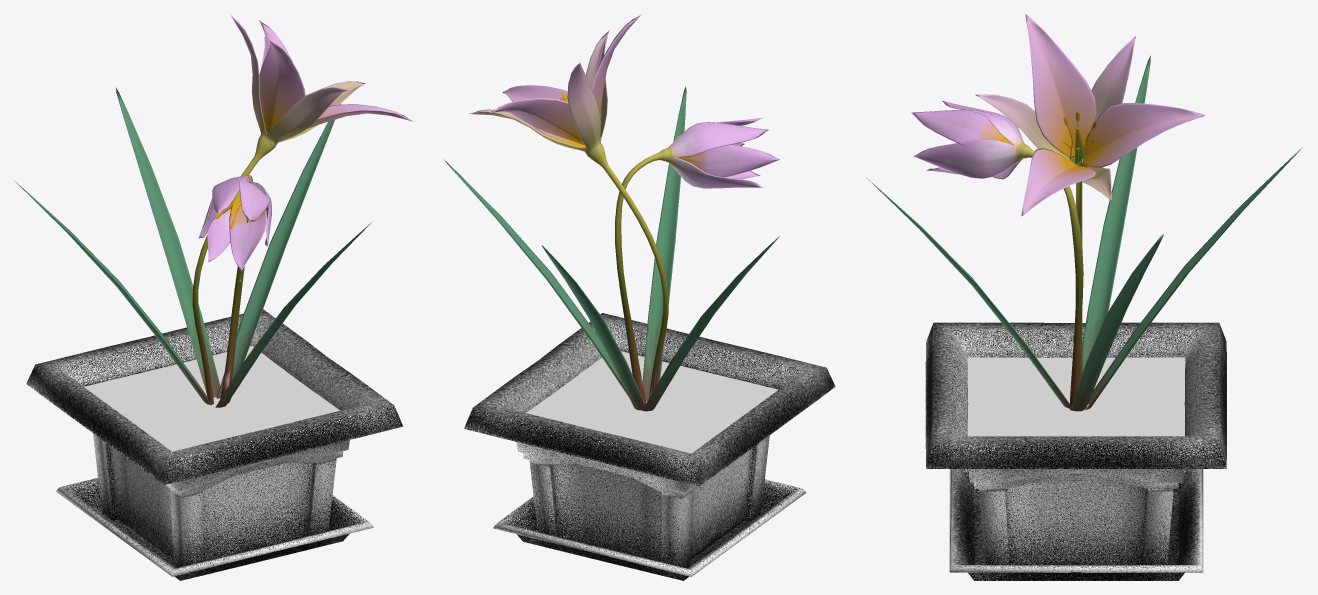
The model's file is tulip.fbx.
The picture shows the model from 3 angles, left to right: view 1: azimuth 30°, elevation 25°; view 2: azimuth 150°, elevation 25°; view 3: azimuth 270°, elevation 25°; orthographic projection. The views are drawn at different scales.
Visible parts, largest first — view 1: Podstavka_low, Plane.005, Plane.003, Plane.007, Plane.008, Plane.001, Plane.006, Plane.004, Plane.010, Plane.002, Plane.009; view 2: Podstavka_low, Plane.008, Plane.005, Plane.006, Plane, Plane.003, Plane.011, Plane.007, Plane.004, Plane.002, Plane.001; view 3: Podstavka_low, Plane.008, Plane.001, Plane.005, Plane.004, Plane, Plane.007, Plane.002, Plane.003, Plane.009, Plane.006.
Boxes of the visible parts, x1,y1,x2,y2 form: Podstavka_low: [26, 191, 403, 580]; Plane.005: [192, 14, 365, 404]; Plane.003: [116, 88, 220, 397]; Plane.007: [216, 104, 340, 402]; Plane.008: [207, 174, 271, 403]; Plane.001: [259, 40, 305, 133]; Plane.006: [215, 222, 371, 407]; Plane.004: [15, 181, 211, 405]; Plane.010: [229, 204, 267, 271]; Plane.002: [307, 104, 413, 128]; Plane.009: [238, 178, 269, 221]; Podstavka_low: [464, 92, 835, 580]; Plane.008: [615, 122, 768, 404]; Plane.005: [469, 30, 668, 397]; Plane.006: [642, 86, 686, 401]; Plane: [490, 98, 584, 145]; Plane.003: [542, 245, 645, 410]; Plane.011: [677, 142, 779, 177]; Plane.007: [444, 160, 628, 396]; Plane.004: [642, 236, 779, 411]; Plane.002: [502, 85, 585, 148]; Plane.001: [592, 14, 641, 115]; Podstavka_low: [925, 127, 1226, 580]; Plane.008: [913, 101, 1083, 409]; Plane.001: [1025, 14, 1096, 158]; Plane.005: [975, 36, 1135, 380]; Plane.004: [1082, 55, 1150, 373]; Plane: [1082, 103, 1204, 167]; Plane.007: [1070, 234, 1163, 411]; Plane.002: [1021, 148, 1096, 216]; Plane.003: [1085, 147, 1302, 410]; Plane.009: [911, 109, 1012, 148]; Plane.006: [866, 177, 1069, 408].
Size of the model in its own units: 71.18 by 98.89 by 72.84.
